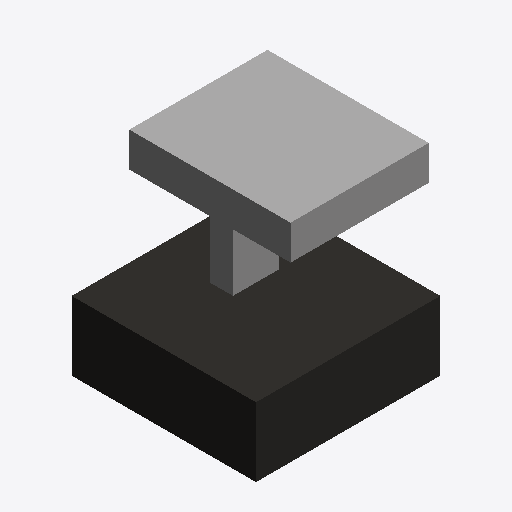
A Minecraft block model of 3 cuboids, rendered isometrically (azimuth 45°, elevation 35.3°) with the resource pack's own textures.
Parts seen in each view (by area): element 1, element 3, element 2.
Part boxes in pixels (left/top/right/bottom): element 1: left=72, top=216, right=439, bottom=481; element 3: left=129, top=50, right=428, bottom=262; element 2: left=210, top=216, right=278, bottom=295.
Bounding box in the file's own units: 16 × 18 × 16.